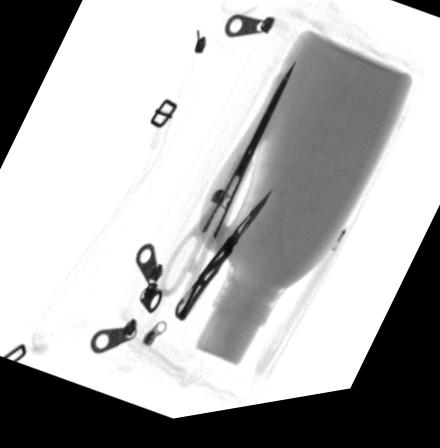Knife: (174, 195, 273, 329)
Scissors: (158, 71, 294, 312)
